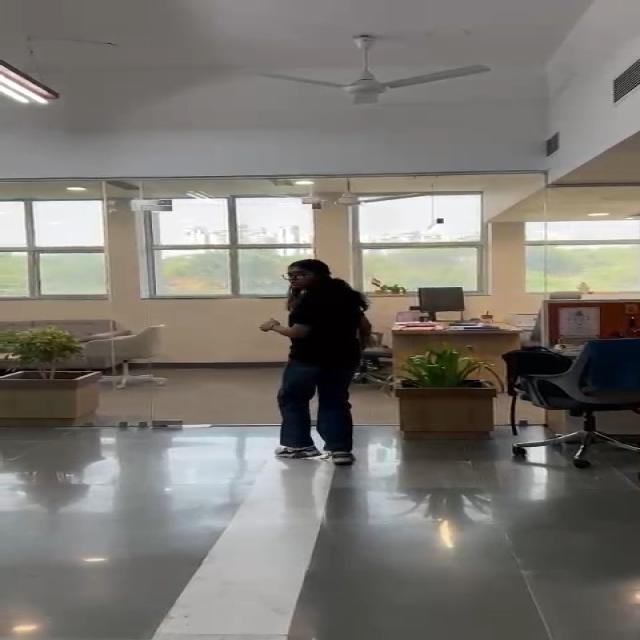floor: (11, 462, 640, 640), (163, 361, 268, 462)
furniture: (507, 334, 640, 466), (390, 349, 500, 456), (1, 336, 95, 440), (51, 311, 164, 390), (403, 270, 479, 326)
moving_object: (267, 252, 383, 470)
wall: (0, 172, 640, 255)
